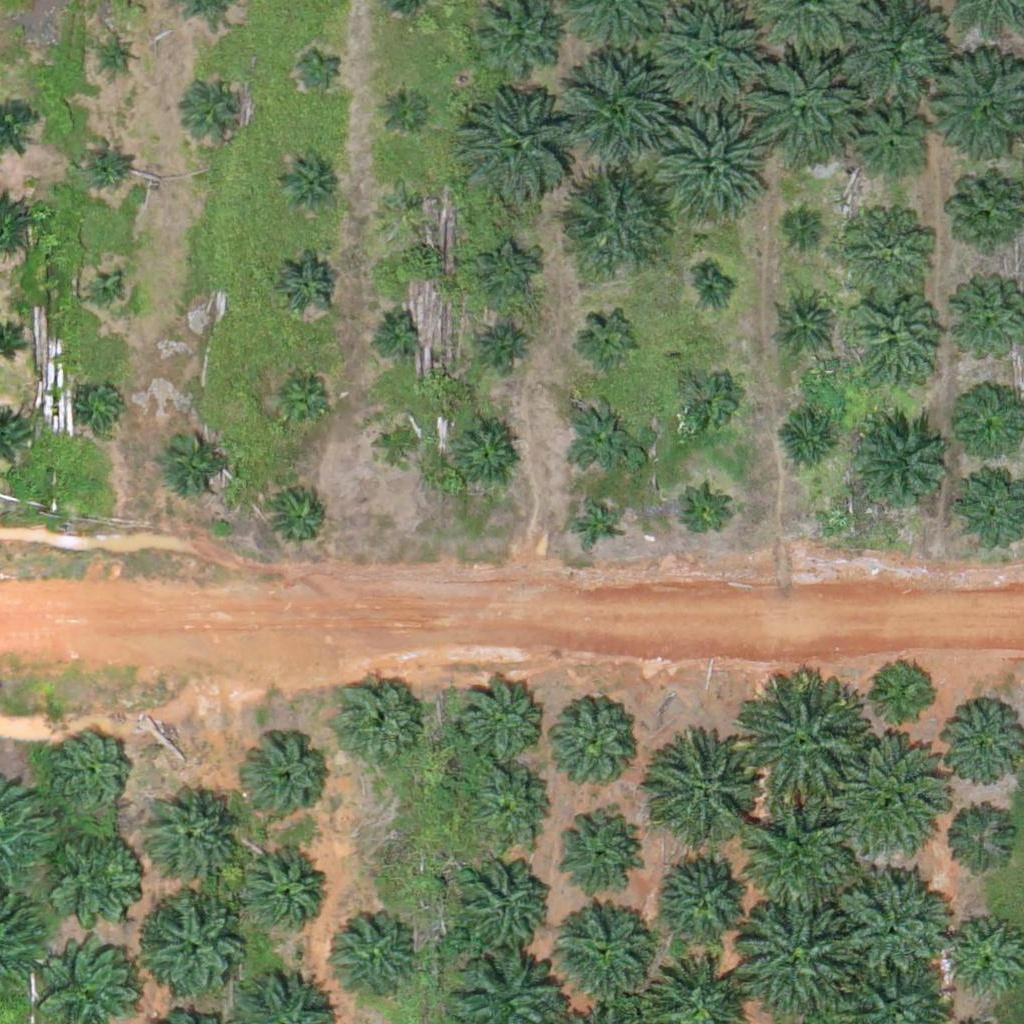Kelapa_Sawit: (741, 686, 866, 812), (455, 84, 580, 210), (841, 741, 954, 855), (744, 804, 857, 917), (735, 905, 848, 1018), (650, 107, 763, 220), (563, 49, 676, 162), (554, 164, 667, 277), (743, 44, 855, 158), (836, 869, 948, 982), (140, 895, 252, 1008), (659, 847, 759, 948), (543, 691, 643, 792), (319, 911, 419, 1012), (142, 787, 242, 888), (848, 414, 948, 515), (654, 745, 754, 845), (556, 901, 656, 1001), (452, 854, 552, 954), (48, 819, 148, 919), (550, 807, 638, 895), (332, 676, 420, 764), (235, 847, 323, 935), (843, 205, 931, 293), (851, 299, 939, 387), (470, 762, 557, 850), (458, 679, 545, 767), (245, 736, 332, 824), (49, 732, 136, 820), (159, 426, 234, 502), (940, 808, 1015, 884), (849, 108, 924, 184), (448, 416, 523, 491), (564, 398, 639, 473), (189, 77, 252, 140), (276, 149, 339, 212), (276, 254, 339, 317), (953, 395, 1016, 458), (269, 486, 332, 549), (777, 413, 840, 476), (874, 660, 937, 723), (672, 368, 735, 431), (269, 368, 332, 431), (476, 241, 538, 304), (580, 310, 642, 373), (678, 490, 728, 541), (482, 319, 532, 370), (571, 499, 621, 550), (380, 79, 430, 130), (379, 176, 429, 227), (369, 305, 419, 356), (295, 41, 345, 92), (79, 380, 129, 430), (780, 298, 830, 348), (373, 421, 423, 471), (81, 139, 131, 189), (788, 209, 826, 247), (98, 37, 136, 75), (88, 275, 126, 313), (693, 271, 730, 309)
